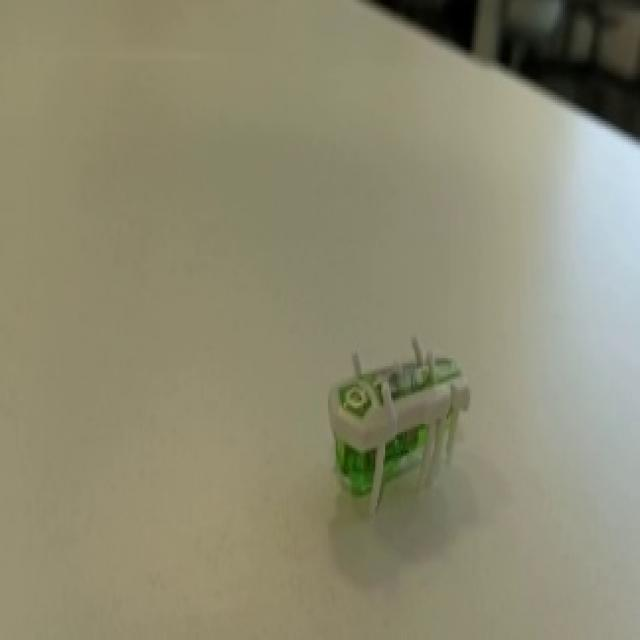4_NanoBug_Blanco: (296, 343, 522, 525)
